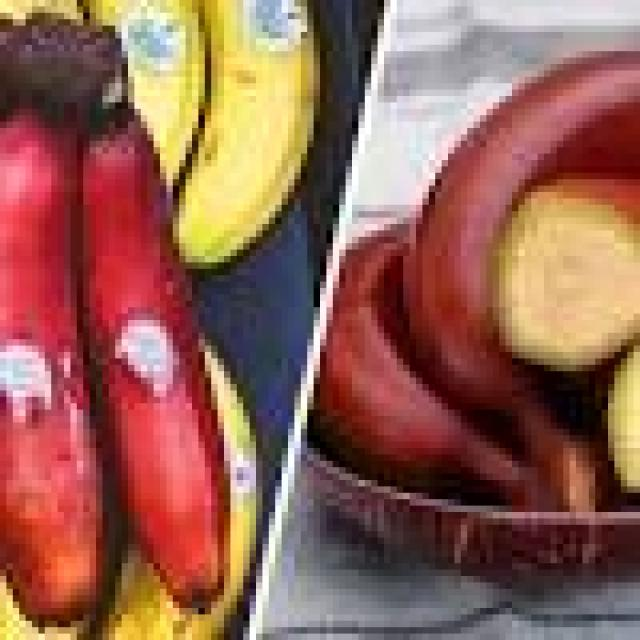Banana: (176, 0, 316, 264), (116, 0, 204, 184)
